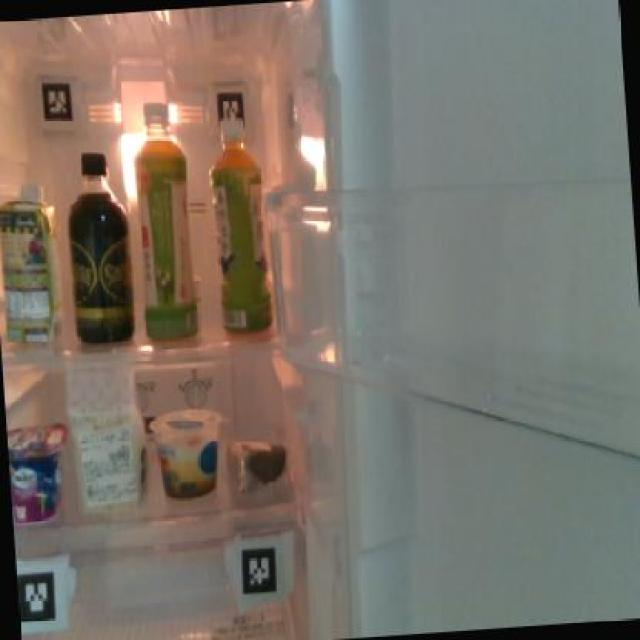coffee: (60, 144, 137, 345)
pudding: (151, 405, 226, 501)
rice_ball: (222, 429, 292, 503)
sandwich: (63, 364, 151, 516)
smoothie: (0, 177, 69, 346)
tea_a: (202, 126, 276, 345)
tea_i: (127, 98, 201, 344)
yogurt: (6, 416, 77, 530)
